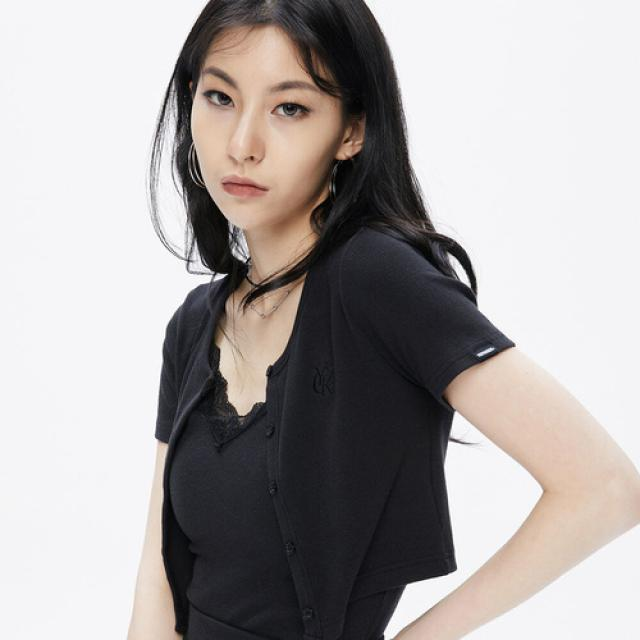dress: (149, 223, 517, 640)
